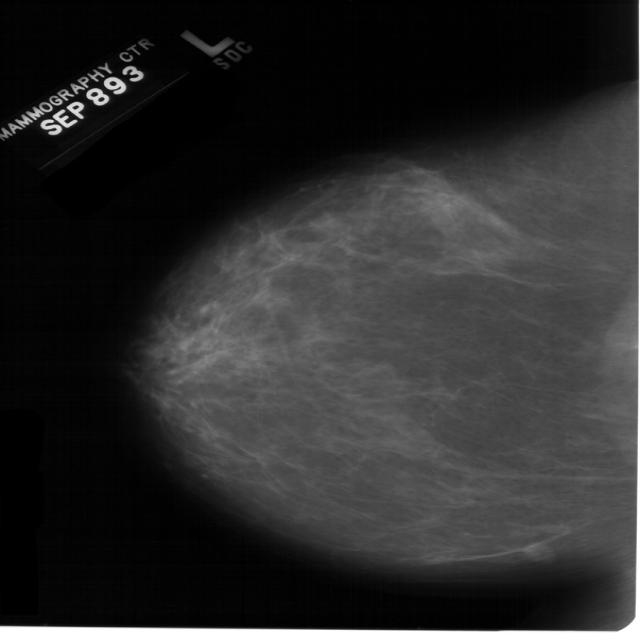tumour: (521, 540, 554, 564)
